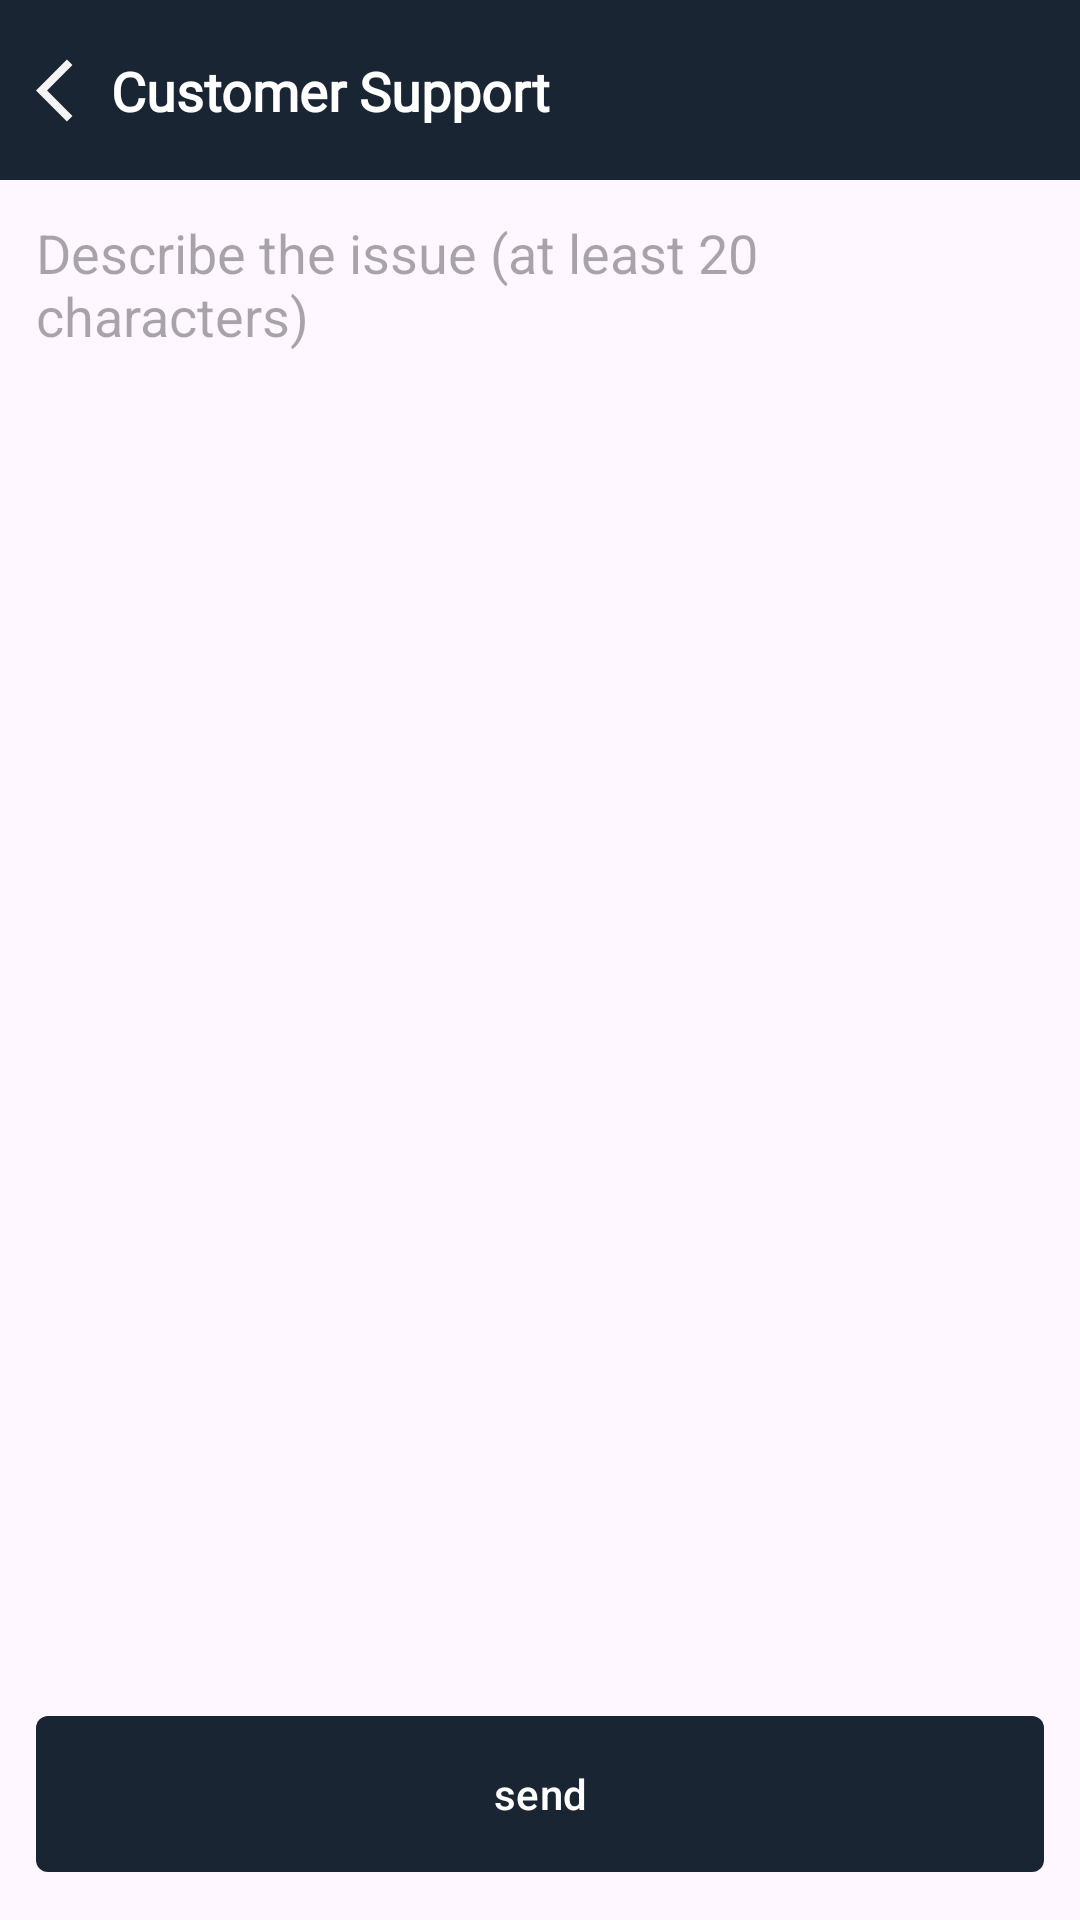

Where to tap for icons on this 1080*1920 app screen, as (x=x, y=y):
arrow back: (x=54, y=90)
